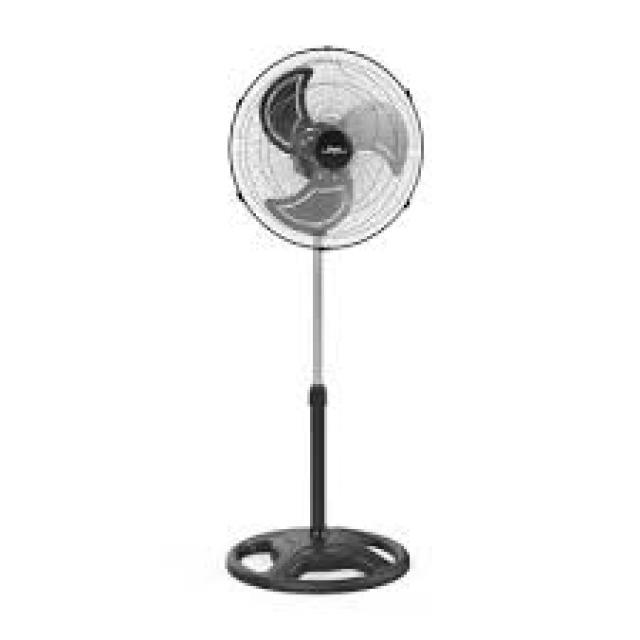fan: (190, 40, 488, 618)
